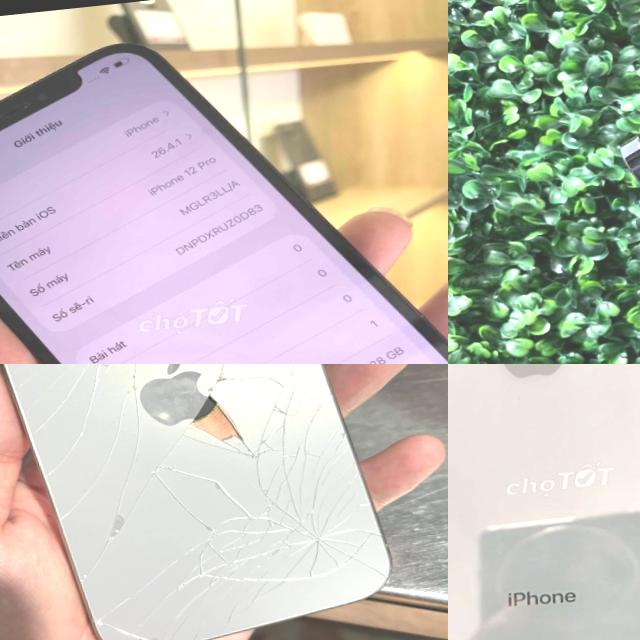gen_12_13: (0, 8, 448, 364), (0, 364, 398, 640)
gen_x_xs: (448, 364, 640, 640)
physical_damage: (166, 364, 318, 467), (203, 486, 360, 576), (54, 372, 154, 473), (80, 482, 161, 568), (91, 590, 209, 640), (158, 458, 212, 509)
